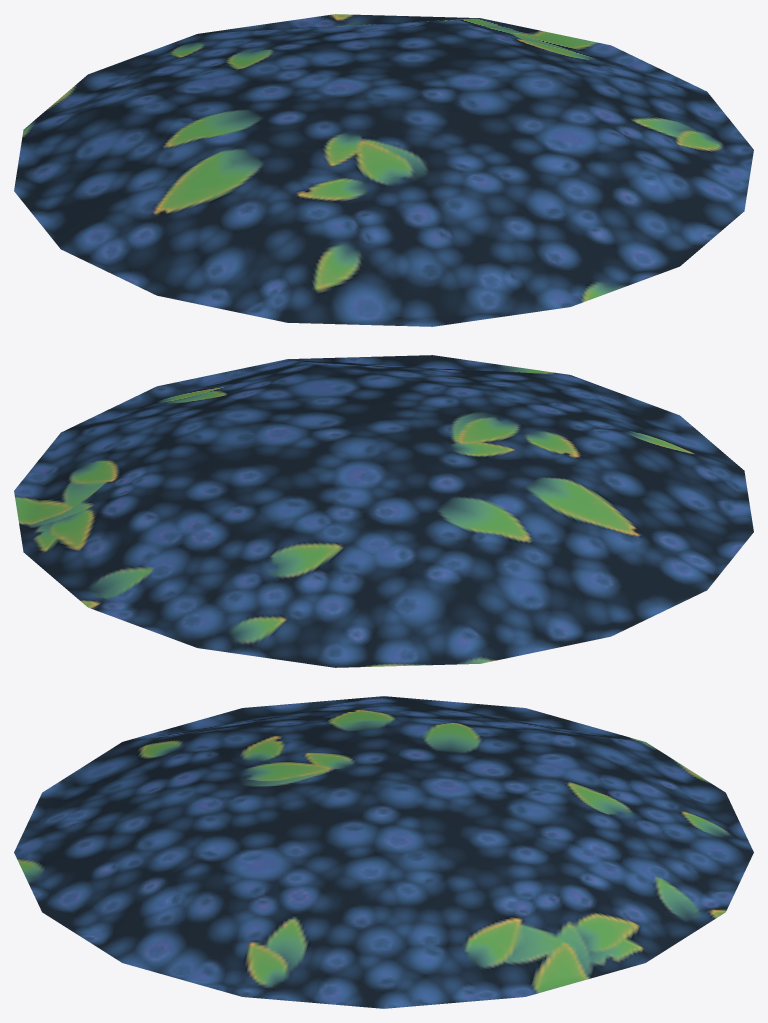
The model's file is SM_PROP_barrel_filling_town_01.fbx.
3 renders of one model, top to bottom at view 1: azimuth 30°, elevation 25°; view 2: azimuth 150°, elevation 25°; view 3: azimuth 270°, elevation 25°, orthographic.
Visible parts, largest first — view 1: SM_PROP_barrel_filling_town_01_LOD0; view 2: SM_PROP_barrel_filling_town_01_LOD0; view 3: SM_PROP_barrel_filling_town_01_LOD0.
Part boxes in pixels (left/top/right/bottom): SM_PROP_barrel_filling_town_01_LOD0: left=14, top=14, right=753, bottom=326; SM_PROP_barrel_filling_town_01_LOD0: left=14, top=355, right=753, bottom=667; SM_PROP_barrel_filling_town_01_LOD0: left=14, top=696, right=753, bottom=1008.
Size of what is drawn, in the model's own units: 70 by 7.16 by 70.
